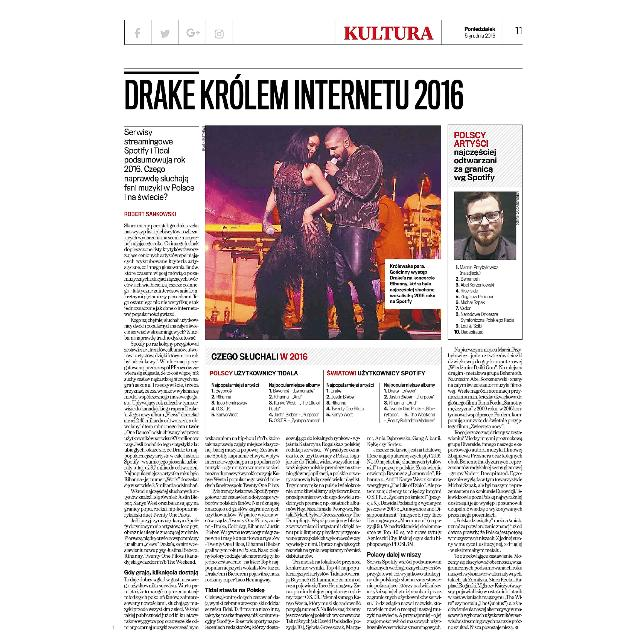article: (122, 71, 526, 633)
